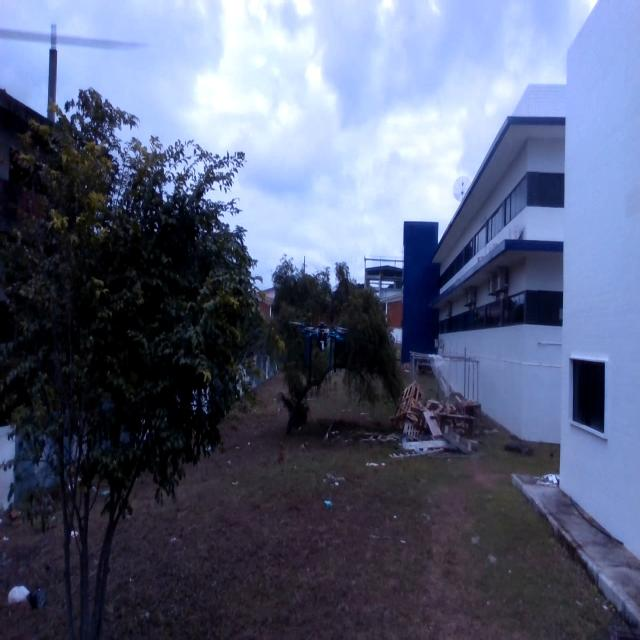-uav-: (290, 312, 348, 368)
